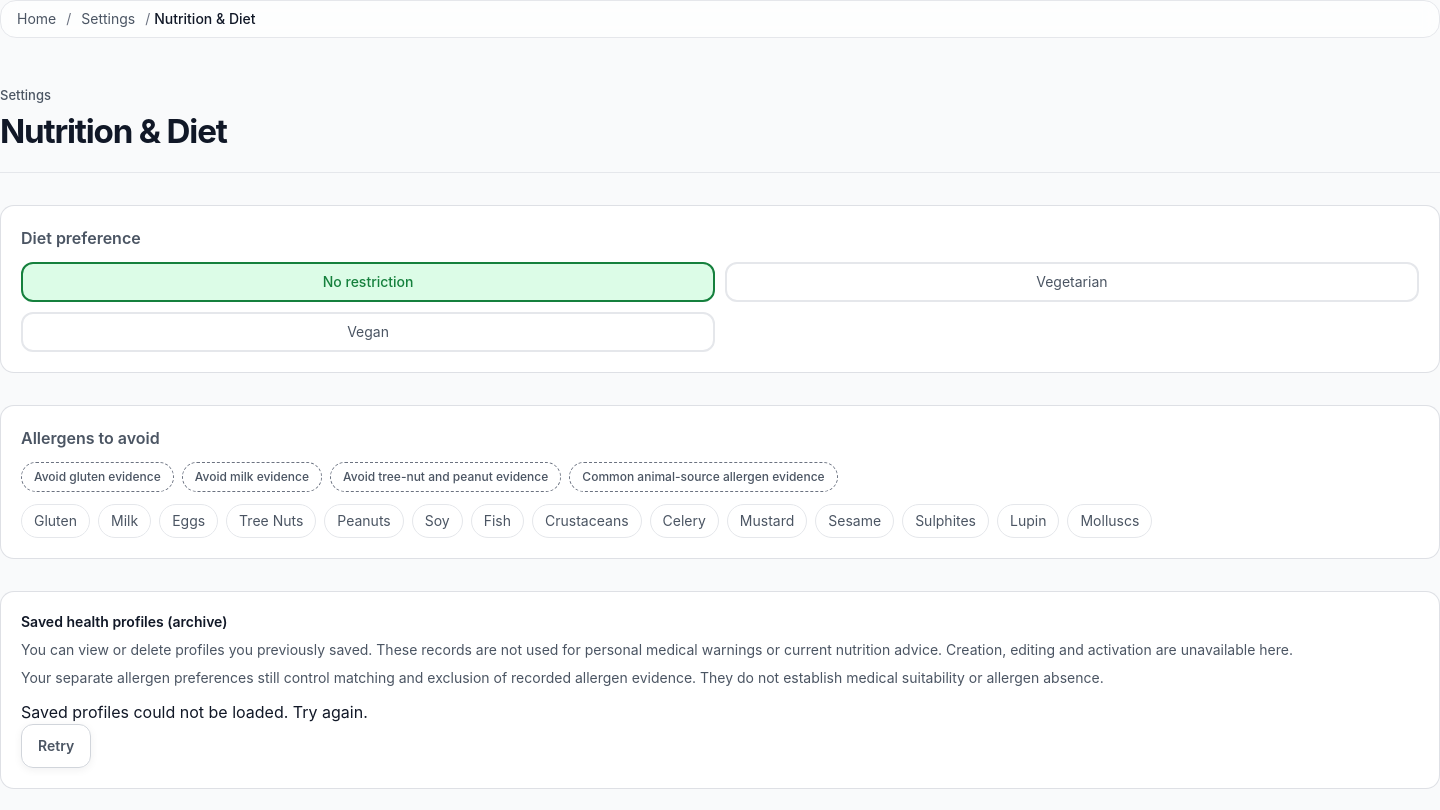
NutritionSettingsPage › clicking the nut-evidence preset selects Tree Nuts and Peanuts
The width and height of the screenshot is (1440, 810).
Step 1. Click the button "Avoid tree-nut and peanut evidence" → (446,476), box [330,462,561,492]
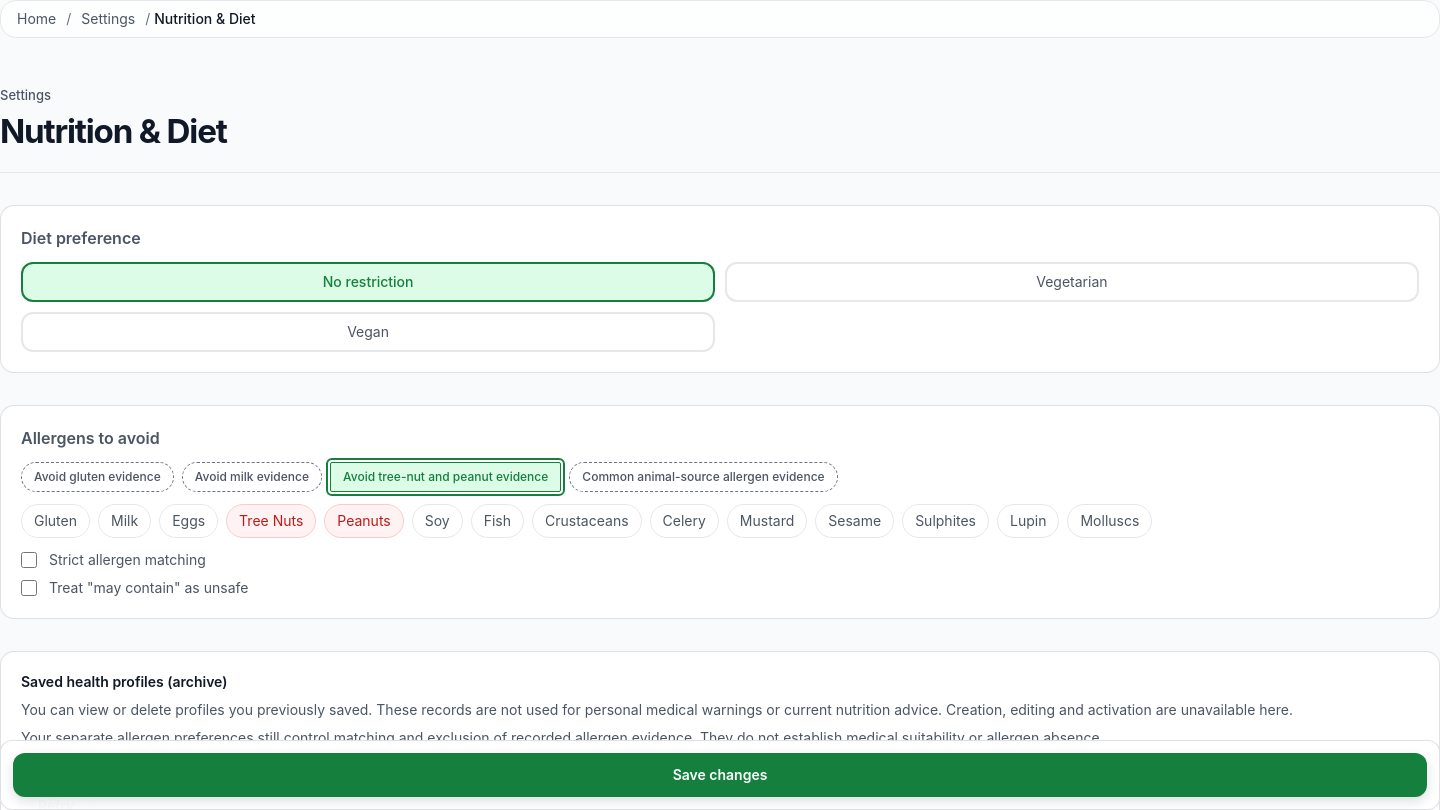
Expected: the text "Strict allergen matching" is shown, [49,550,206,570]
